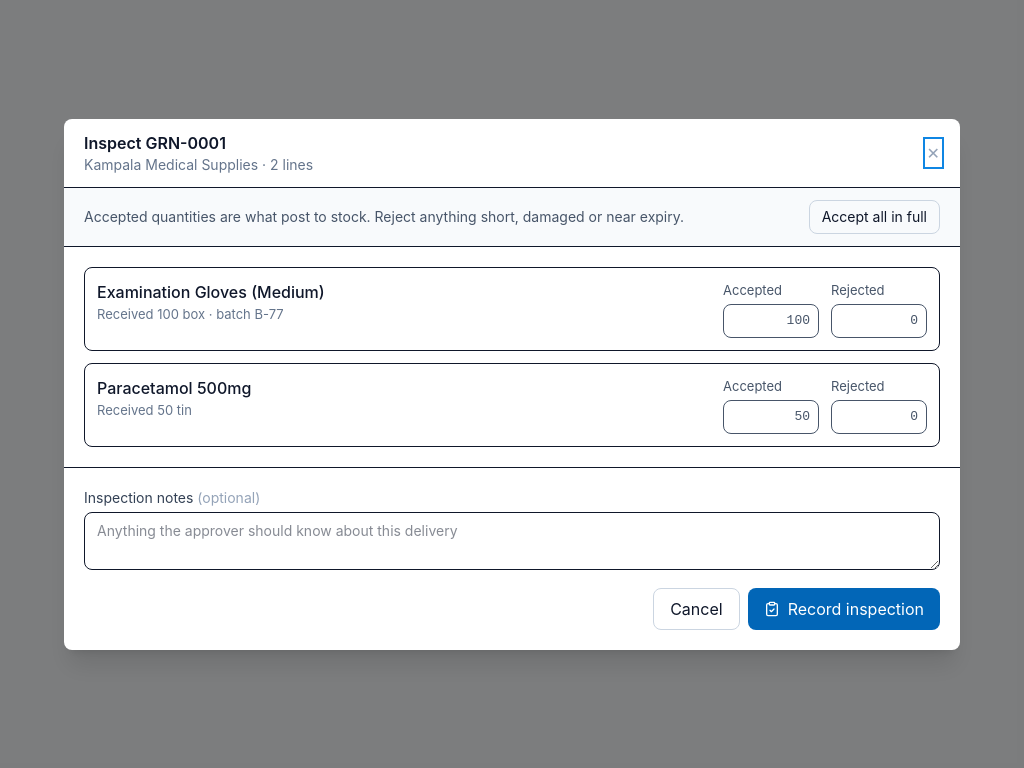
InspectGRNModal › couples the two boxes so a line always accounts for what was received
The width and height of the screenshot is (1024, 768).
Replace the text in the number field labelled "Rejected" in the row of "· batch B-77" with "30" at {"x": 879, "y": 320}, box [831,304,927,338]
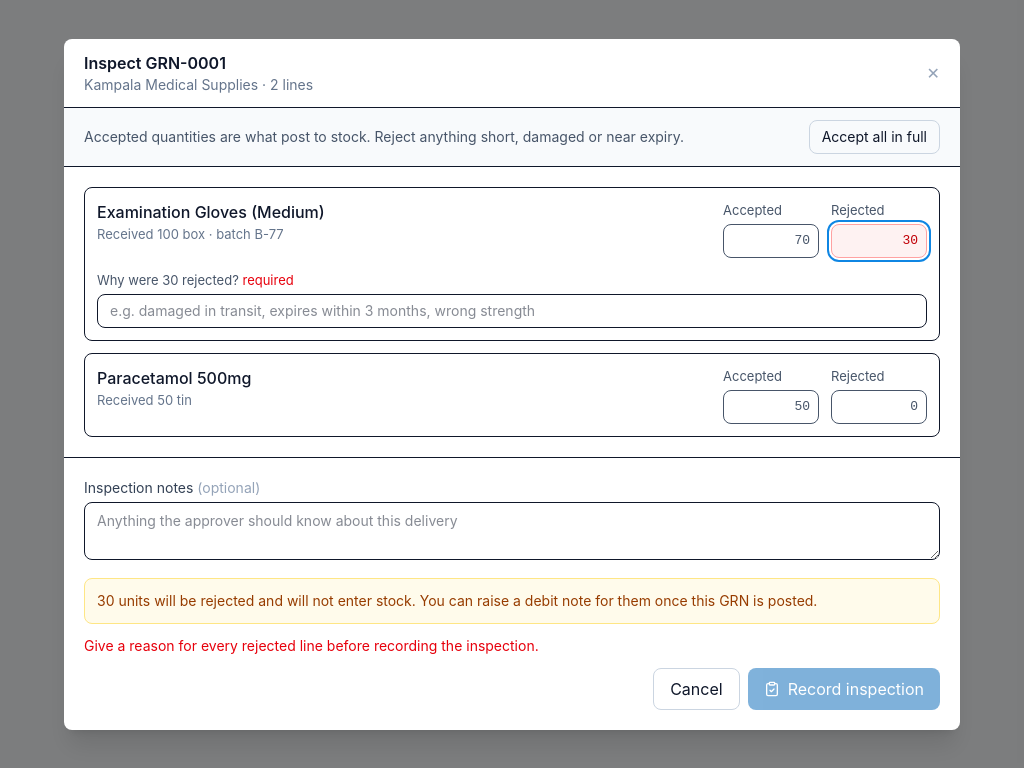
Expected: the number field labelled "Accepted" in the row of "· batch B-77" holds "70", [723,224,819,258]
